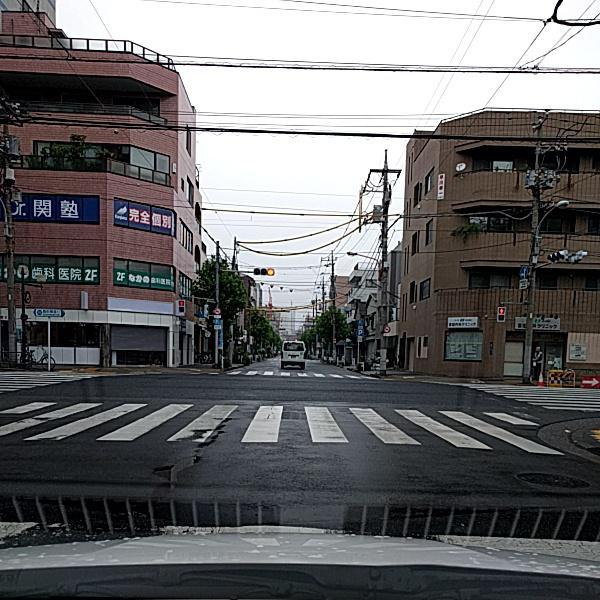D50: (511, 471, 592, 490)
